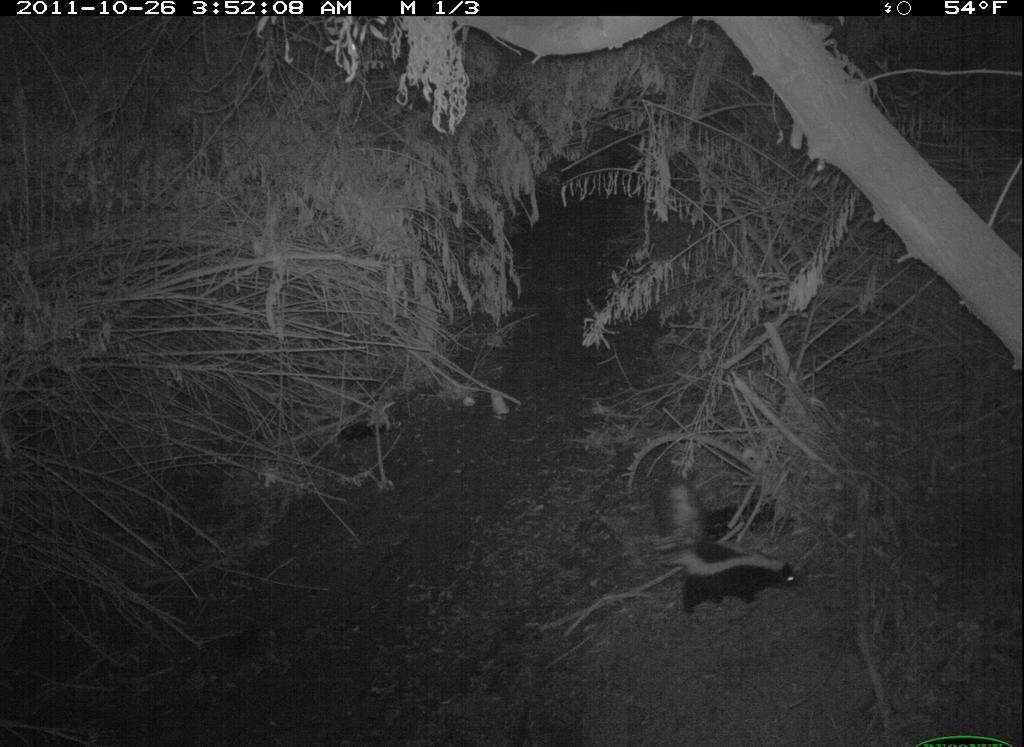skunk: (646, 459, 811, 617)
